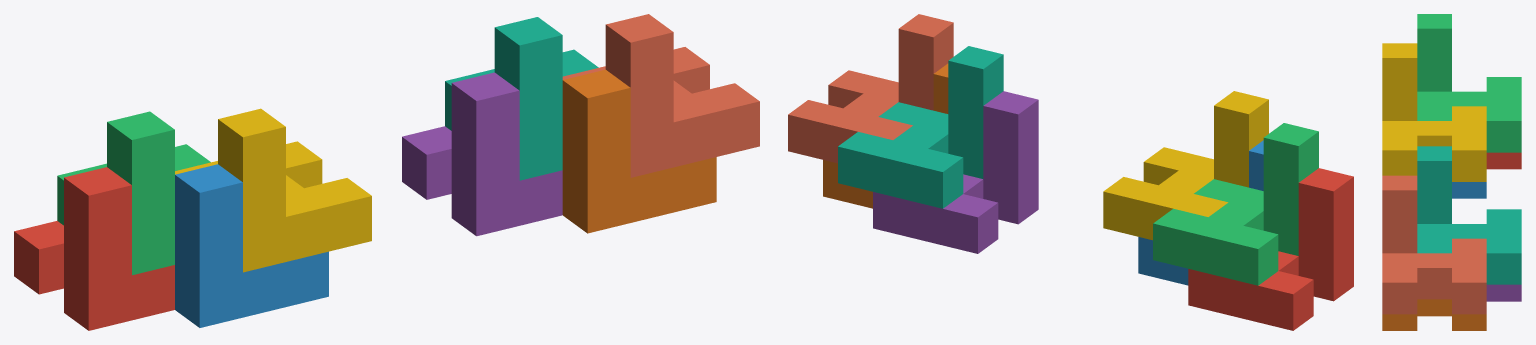
The model's file is tiling.obj.
3 renders of one model, left to right at view 1: azimuth 30°, elevation 25°; view 2: azimuth 150°, elevation 25°; view 3: azimuth 270°, elevation 25°, orthographic. The views are drawn at different scales.
Parts seen in each view (by area): view 1: copy_1_domain_8, copy_1_domain_5, copy_1_domain_1, copy_1_domain_4, copy_1_domain_6, copy_1_domain_2, copy_1_domain_7, copy_1_domain_3; view 2: copy_1_domain_7, copy_1_domain_3, copy_1_domain_5, copy_1_domain_1, copy_1_domain_8, copy_1_domain_4, copy_1_domain_6, copy_1_domain_2; view 3: copy_1_domain_8, copy_1_domain_4, copy_1_domain_7, copy_1_domain_3, copy_1_domain_6, copy_1_domain_5, copy_1_domain_1, copy_1_domain_2.
Boxes of the visible parts, x1,y1,x2,y2 form: copy_1_domain_8: (562,14,759,177); copy_1_domain_5: (402,72,562,236); copy_1_domain_1: (14,167,174,330); copy_1_domain_4: (175,108,371,272); copy_1_domain_6: (562,69,716,233); copy_1_domain_2: (175,164,328,327); copy_1_domain_7: (445,17,598,180); copy_1_domain_3: (57,111,210,275); copy_1_domain_7: (838,46,1003,208); copy_1_domain_3: (1153,123,1318,285); copy_1_domain_5: (873,91,1038,253); copy_1_domain_1: (1188,168,1353,330); copy_1_domain_8: (788,14,953,163); copy_1_domain_4: (1103,91,1268,240); copy_1_domain_6: (823,63,948,208); copy_1_domain_2: (1138,140,1263,285); copy_1_domain_8: (1382,175,1486,314); copy_1_domain_4: (1382,43,1486,181); copy_1_domain_7: (1417,146,1521,284); copy_1_domain_3: (1417,14,1521,152); copy_1_domain_6: (1382,299,1486,330); copy_1_domain_5: (1486,284,1521,301); copy_1_domain_1: (1486,152,1521,169); copy_1_domain_2: (1452,182,1486,198).
Bounding box in the file's own units: 15 × 4 × 4.
